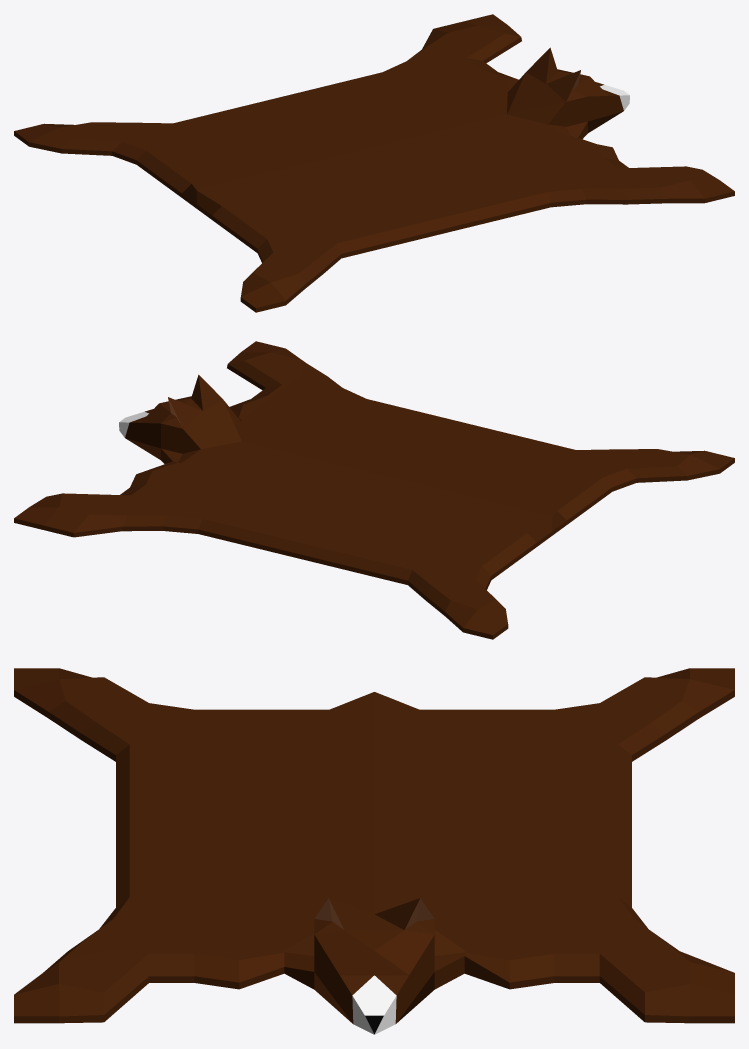
File: skinbear01.gltf
The picture shows the model from 3 angles, top to bottom: view 1: azimuth 30°, elevation 25°; view 2: azimuth 150°, elevation 25°; view 3: azimuth 270°, elevation 25°; orthographic projection. The views are drawn at different scales.
Visible parts, largest first — view 1: Cube.001; view 2: Cube.001; view 3: Cube.001.
Part boxes in pixels (bbox=[...]): Cube.001: bbox=[14, 14, 734, 312]; Cube.001: bbox=[14, 341, 734, 639]; Cube.001: bbox=[14, 668, 734, 1034].
Size of the model in its own units: 1.94 by 0.2268 by 1.64.
Materials: 1 (1 with a texture image).
